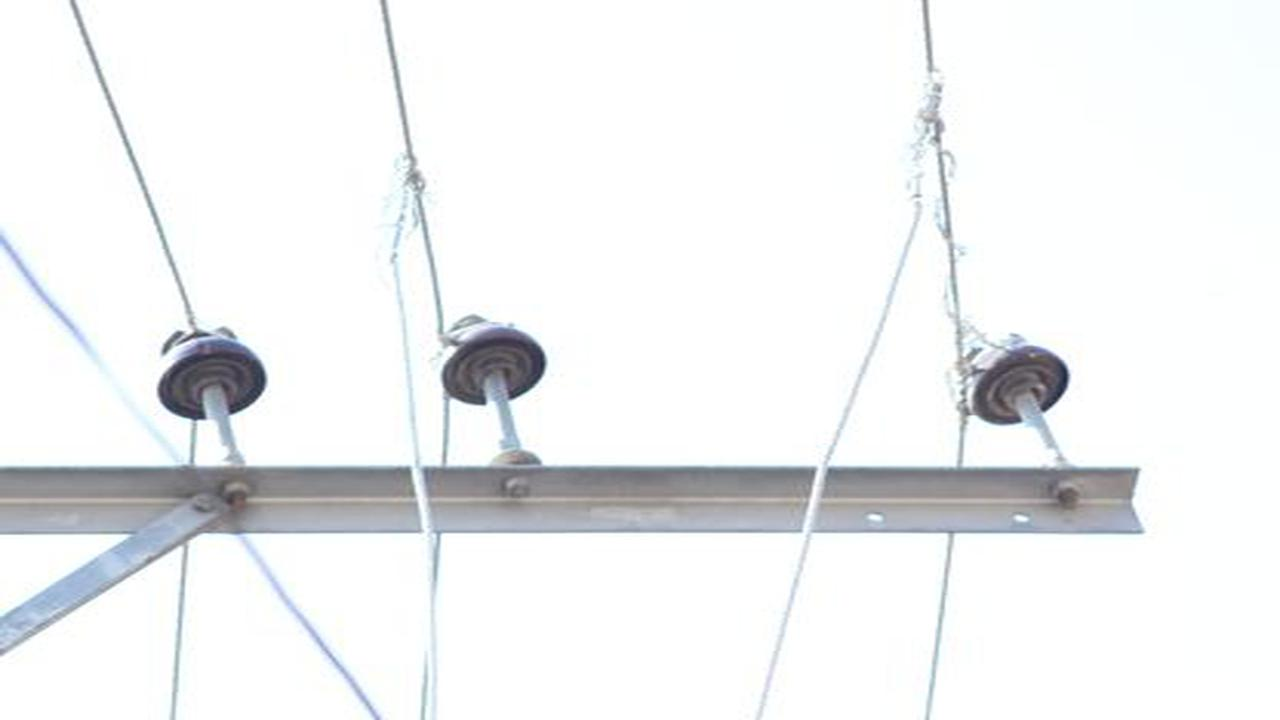insulator_pin: (438, 306, 553, 412), (960, 333, 1076, 433), (154, 322, 271, 421)
